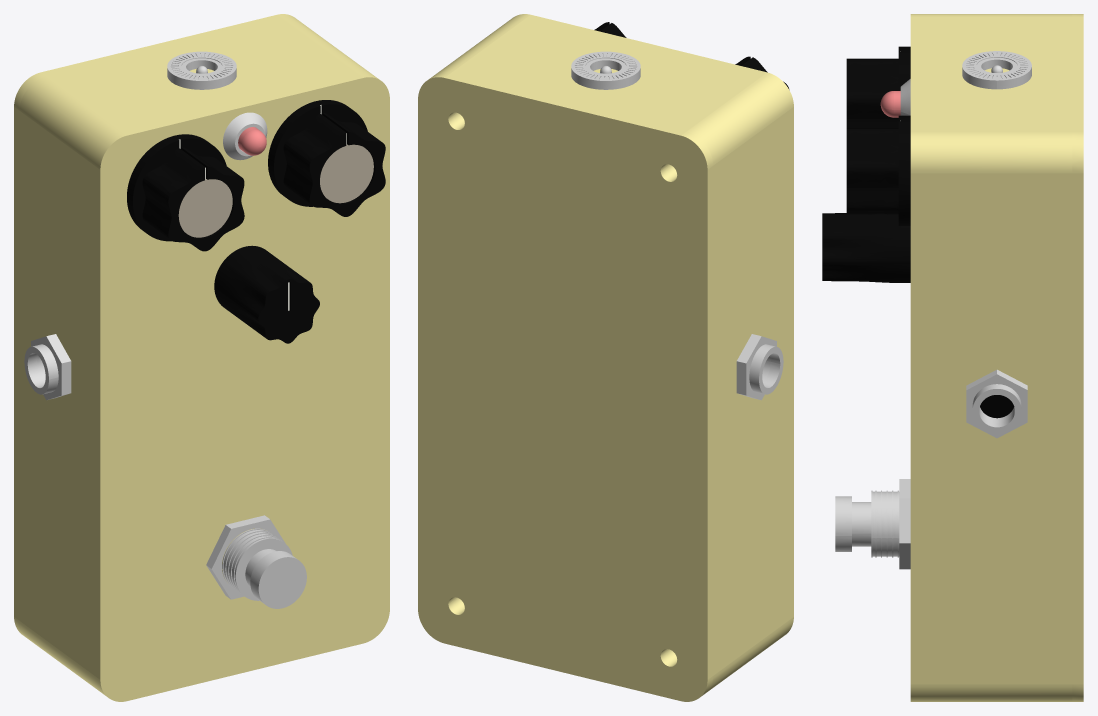
File: stompbox-boss-style-preview.glb
The picture shows the model from 3 angles, left to right: view 1: azimuth 30°, elevation 25°; view 2: azimuth 150°, elevation 25°; view 3: azimuth 270°, elevation 25°; orthographic projection.
Visible parts, largest first — view 1: box-1590b/o1.1, knob-RATE/o1.1, knob-DEPTH/o1.1, knob-LEVEL/o1.1, box-1590b/o1.2, switch-bypass/o1.3, knob-RATE/o1.2, knob-DEPTH/o1.2, power-9v/o1.1, switch-bypass/o1.2, switch-bypass/o1.1, jack-output/o1.2 (+3 smaller); view 2: box-1590b/o1.2, box-1590b/o1.1, power-9v/o1.1, jack-output/o1.2, jack-output/o1.1; view 3: box-1590b/o1.1, box-1590b/o1.2, knob-DEPTH/o1.1, knob-LEVEL/o1.1, knob-RATE/o1.1, power-9v/o1.1, switch-bypass/o1.2, switch-bypass/o1.3, jack-input/o1.1, jack-input/o1.2, switch-bypass/o1.1, hole-backing-jack-input (+1 smaller).
Boxes of the visible parts, x1=… form: box-1590b/o1.1: x1=19, y1=18, x2=389, y2=701; knob-RATE/o1.1: x1=127, y1=134, x2=244, y2=251; knob-DEPTH/o1.1: x1=268, y1=100, x2=385, y2=216; knob-LEVEL/o1.1: x1=214, y1=245, x2=319, y2=343; box-1590b/o1.2: x1=14, y1=14, x2=298, y2=637; switch-bypass/o1.3: x1=245, y1=549, x2=306, y2=608; knob-RATE/o1.2: x1=178, y1=179, x2=232, y2=237; knob-DEPTH/o1.2: x1=320, y1=144, x2=373, y2=203; power-9v/o1.1: x1=167, y1=51, x2=236, y2=89; switch-bypass/o1.2: x1=222, y1=528, x2=292, y2=600; switch-bypass/o1.1: x1=206, y1=515, x2=285, y2=599; jack-output/o1.2: x1=24, y1=344, x2=58, y2=394; box-1590b/o1.2: x1=418, y1=73, x2=712, y2=701; box-1590b/o1.1: x1=434, y1=14, x2=793, y2=691; power-9v/o1.1: x1=571, y1=51, x2=640, y2=89; jack-output/o1.2: x1=749, y1=344, x2=783, y2=394; jack-output/o1.1: x1=736, y1=334, x2=776, y2=400; box-1590b/o1.1: x1=910, y1=14, x2=1072, y2=701; box-1590b/o1.2: x1=1072, y1=14, x2=1083, y2=701; knob-DEPTH/o1.1: x1=846, y1=115, x2=910, y2=225; knob-LEVEL/o1.1: x1=822, y1=213, x2=910, y2=282; knob-RATE/o1.1: x1=846, y1=46, x2=910, y2=127; power-9v/o1.1: x1=962, y1=51, x2=1031, y2=89; switch-bypass/o1.2: x1=871, y1=490, x2=899, y2=557; switch-bypass/o1.3: x1=835, y1=496, x2=871, y2=551; jack-input/o1.1: x1=966, y1=369, x2=1027, y2=438; jack-input/o1.2: x1=972, y1=384, x2=1021, y2=433; switch-bypass/o1.1: x1=899, y1=479, x2=910, y2=569; hole-backing-jack-input: x1=980, y1=395, x2=1014, y2=418.
Size of what is drawn, in the model's own units: 68.5 by 114 by 46.8.
